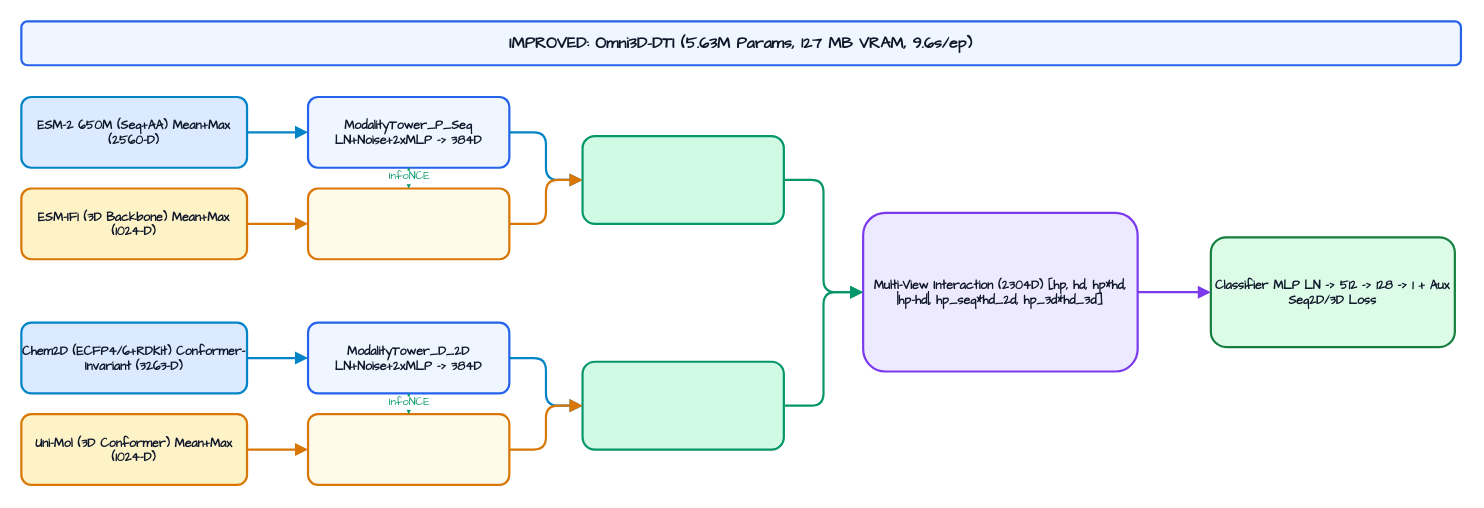
This 1484x508 diagram has some shape labels left out. The centre of each missing label's shape, as x and y in pixels:
AdaptiveGate_D + ModalityDrop (p=0.15) g_d=0.54 -> hd (384D): (682,405)
AdaptiveGate_P + ModalityDrop (p=0.15) g_p=0.45 -> hp (384D): (682,179)
ModalityTower_D_3D LN+Noise+2xMLP -> 384D: (408,448)
ModalityTower_P_3D LN+Noise+2xMLP -> 384D: (408,223)
